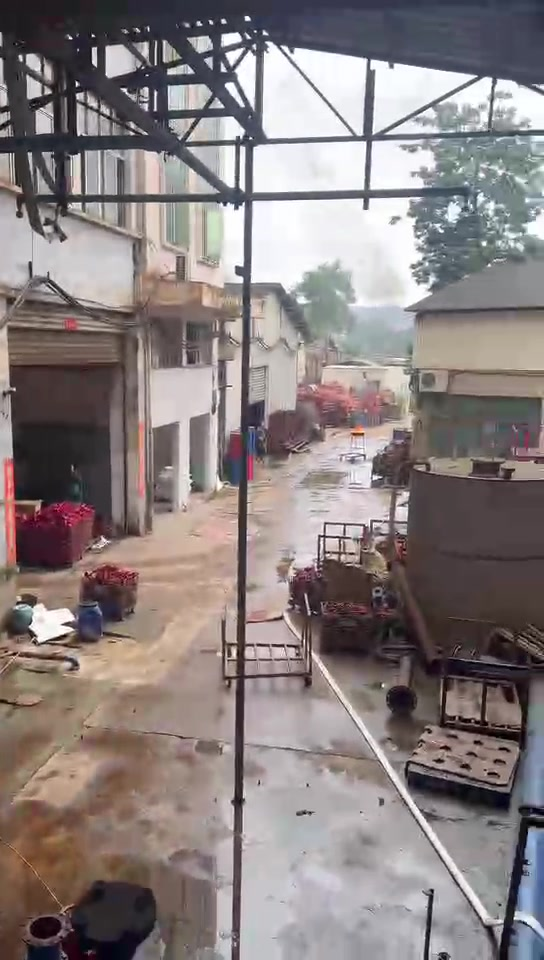fire: (351, 424, 364, 433)
